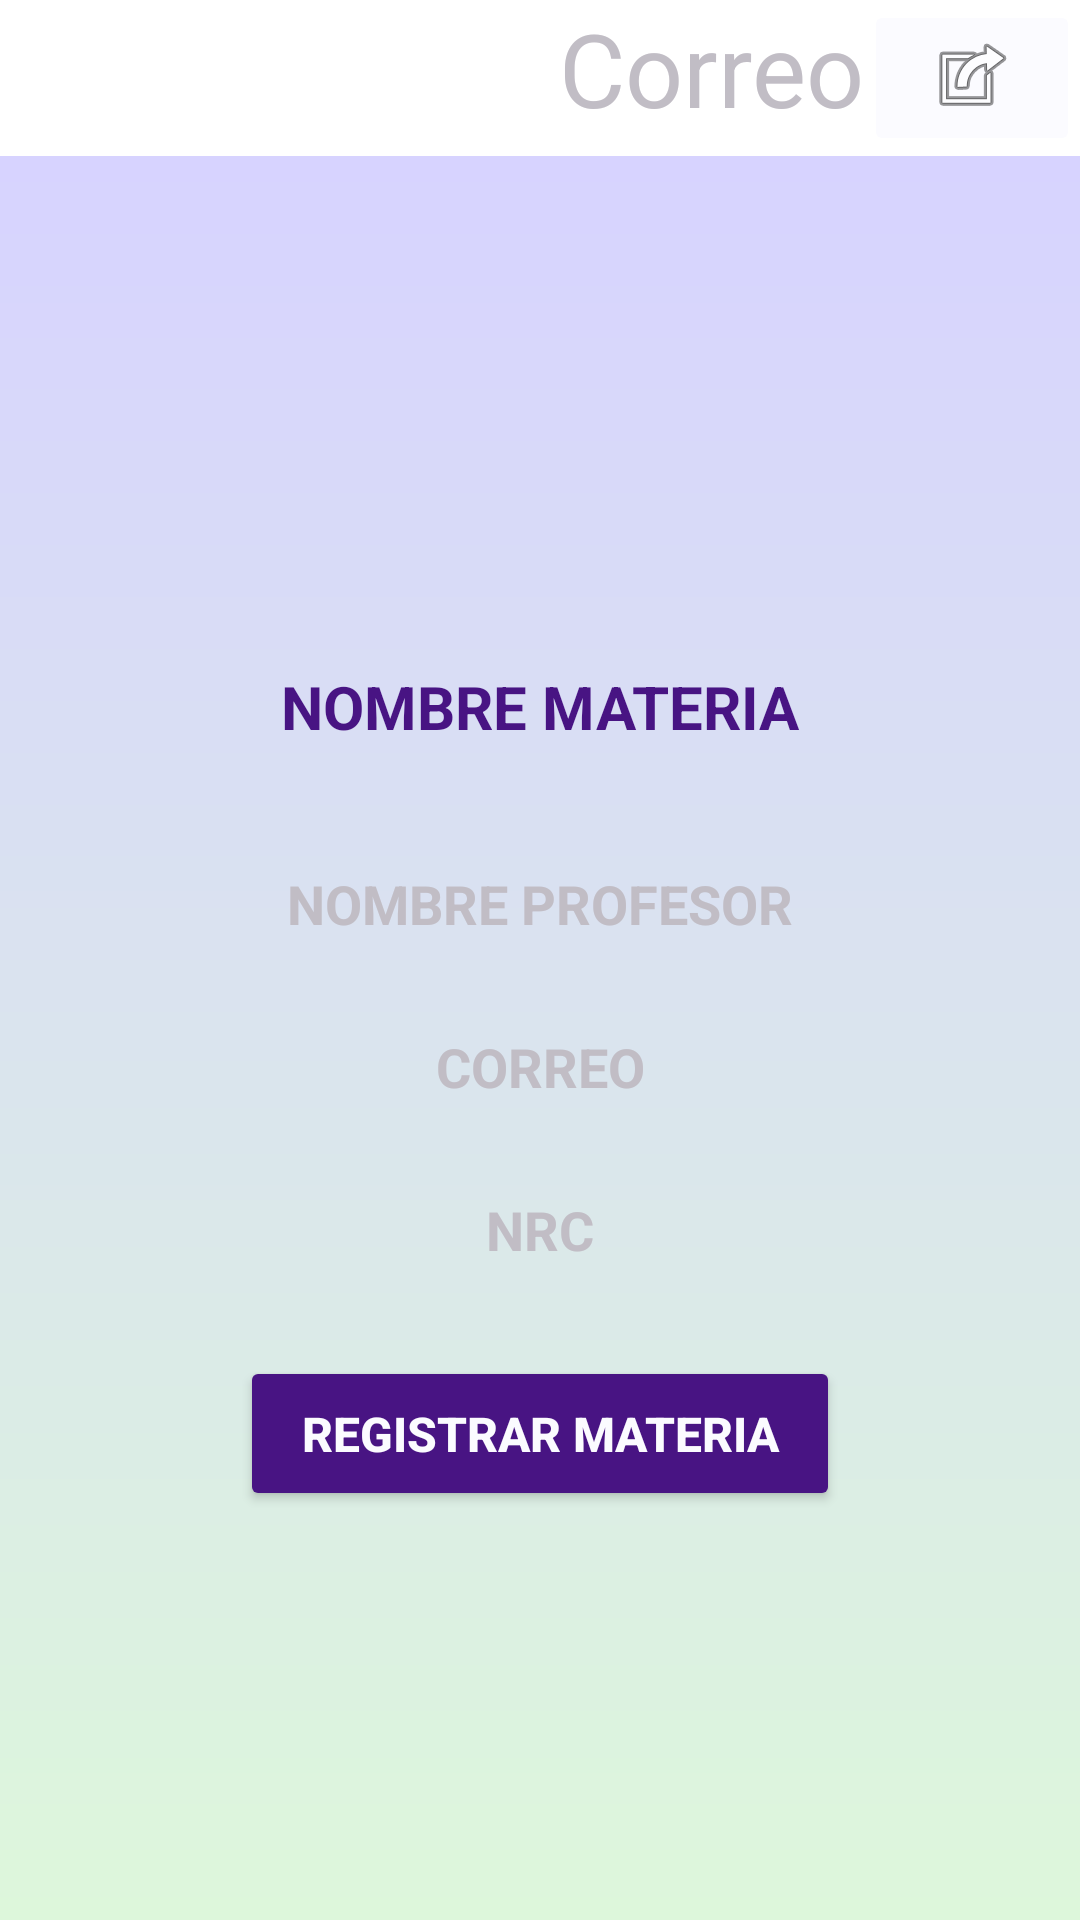

Where icons sit on this 1080 x 1920 app screen, as bbox=(x1, y1, x2, y2):
set as: bbox=(939, 43, 1007, 106)
